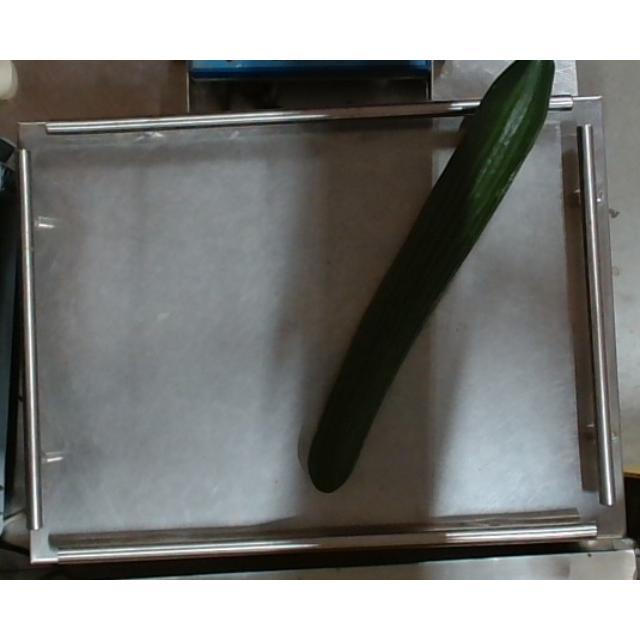cucumber: (292, 76, 566, 484)
